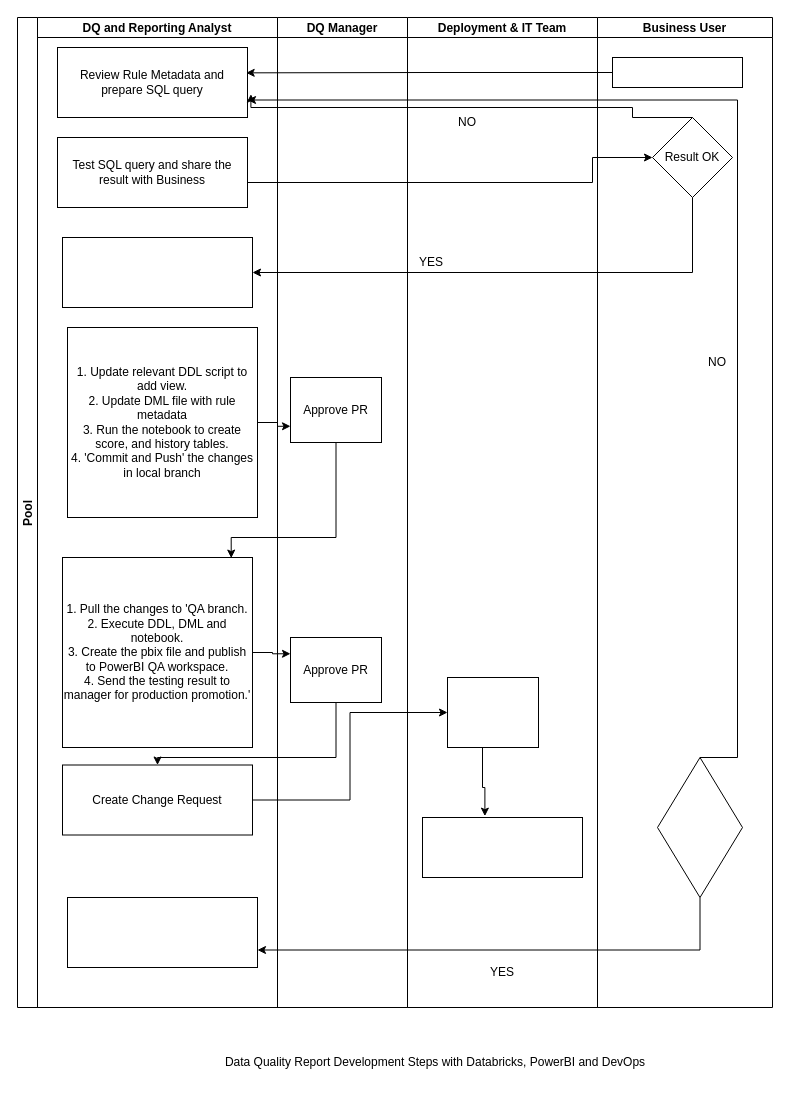
Image size: 790x1105. Some labels were removed from this diagram. Here are the shapes that lost their labels. From the top down, the centre of each, then its label:
At [677,72]: "Request for new rule/scorecard".
At [157,272]: "Create new branch based on 'Dev' branch in DBX".
At [492,712]: "Review and Approve CR".
At [502,847]: "Execute the changes to production with DQ and BI analysts's Assistance".
At [699,827]: "Review and Confirm Results".
At [162,932]: "Close Ticket".
